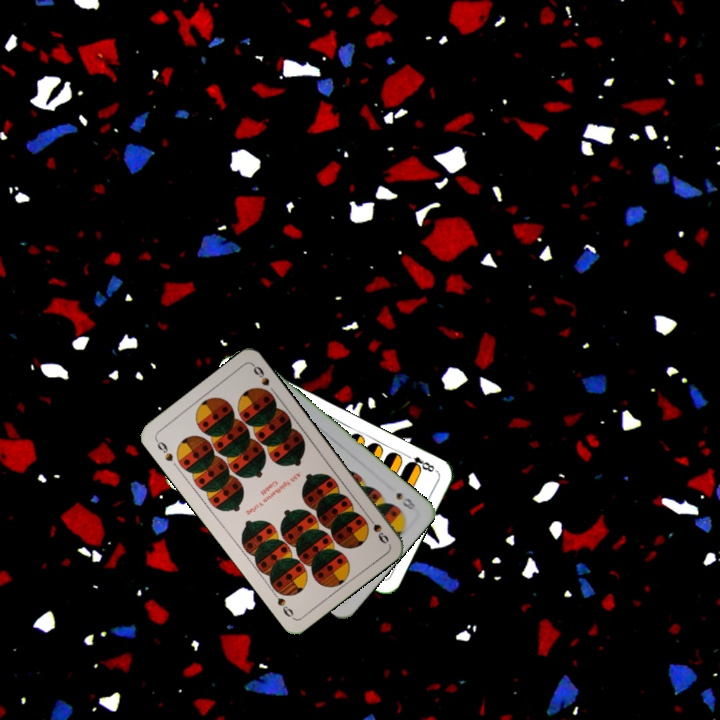E8: (402, 450, 439, 475)
S8: (392, 488, 420, 512)
S9: (363, 511, 391, 546), (151, 435, 176, 464)
